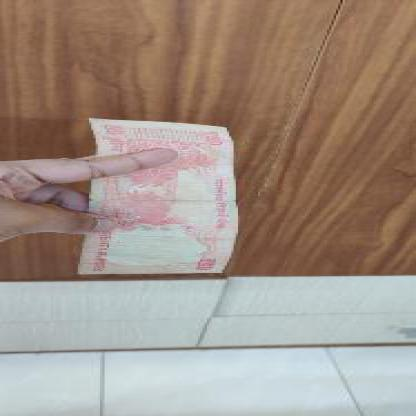Old20Back: (93, 120, 233, 276)
